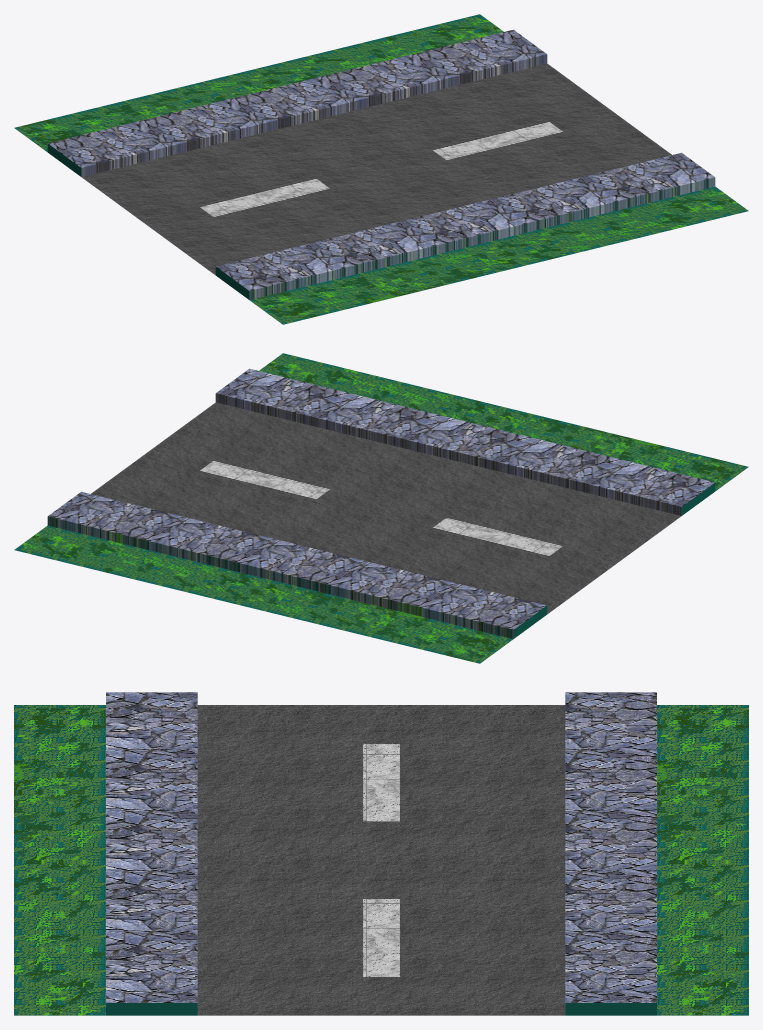
The model's file is road_straight.obj.
3 views of the same model, one above another, from view 1: azimuth 30°, elevation 25°; view 2: azimuth 150°, elevation 25°; view 3: azimuth 270°, elevation 25° (orthographic). The views are drawn at different scales.
Parts seen in each view (by area): view 1: road_straight; view 2: road_straight; view 3: road_straight.
Part boxes in pixels (<box>): road_straight: <box>14,14,748,324</box>; road_straight: <box>14,353,748,663</box>; road_straight: <box>14,692,748,1015</box>.
Size of the model in its own units: 4 by 0.075 by 4.
Materials: 1 (1 with a texture image).
